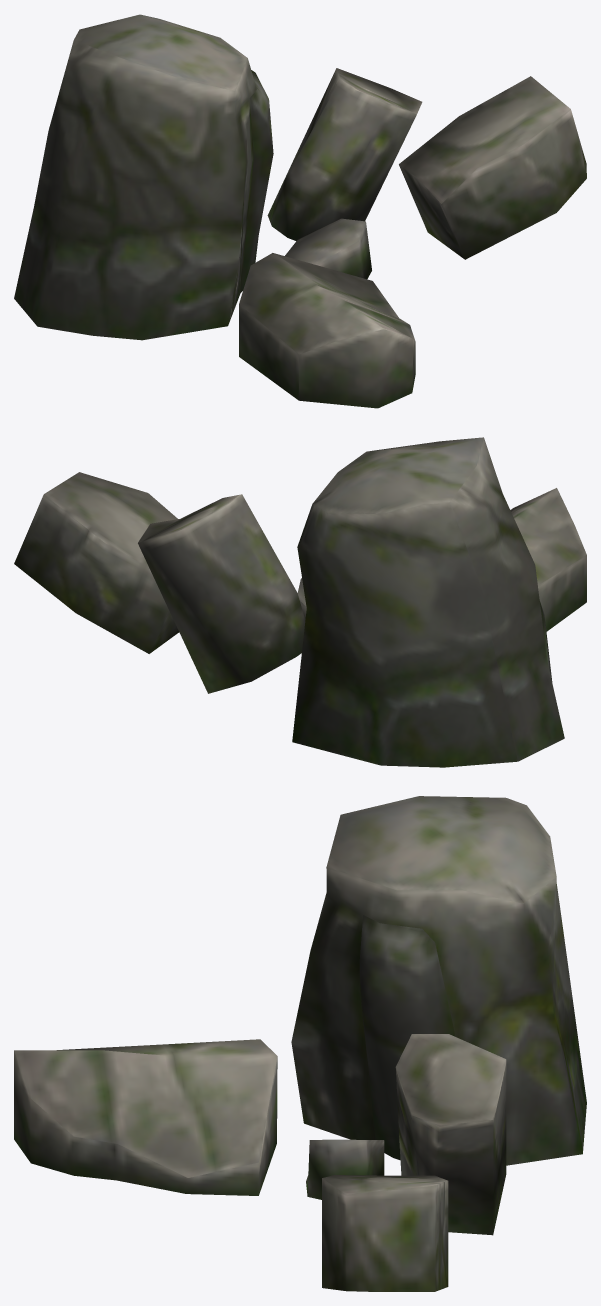
Rendered from Stage_ZhuCheng_HeShi03.FBX.
3 renders of one model, top to bottom at view 1: azimuth 30°, elevation 25°; view 2: azimuth 150°, elevation 25°; view 3: azimuth 270°, elevation 25°, orthographic. The views are drawn at different scales.
Visible parts, largest first — view 1: Stage_ZhuCheng_HeShi03; view 2: Stage_ZhuCheng_HeShi03; view 3: Stage_ZhuCheng_HeShi03.
Boxes of the visible parts, x1,y1,x2,y2 form: Stage_ZhuCheng_HeShi03: (14,14,586,408); Stage_ZhuCheng_HeShi03: (14,437,586,767); Stage_ZhuCheng_HeShi03: (14,796,586,1291).
Bounding box in the file's own units: 275 × 128 × 216.
